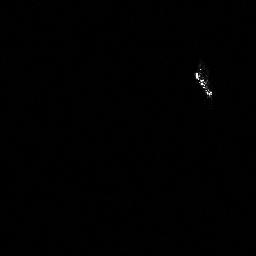ship: (192, 69, 215, 99)
